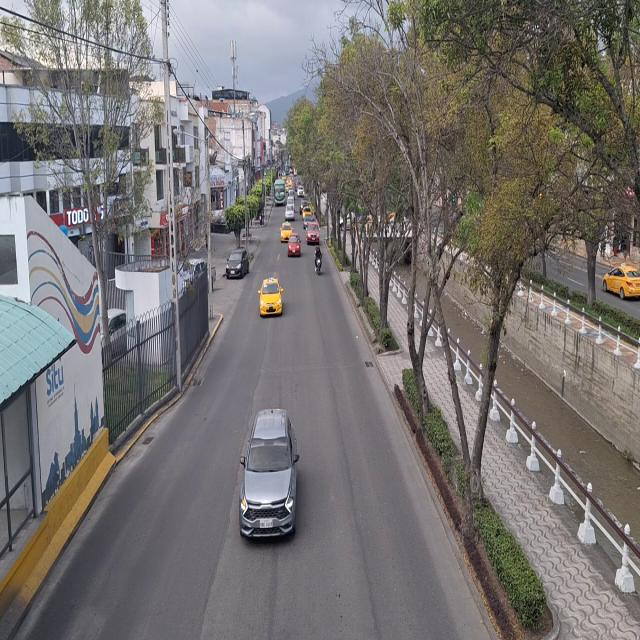MOTORCYCLE: (316, 255, 322, 276)
